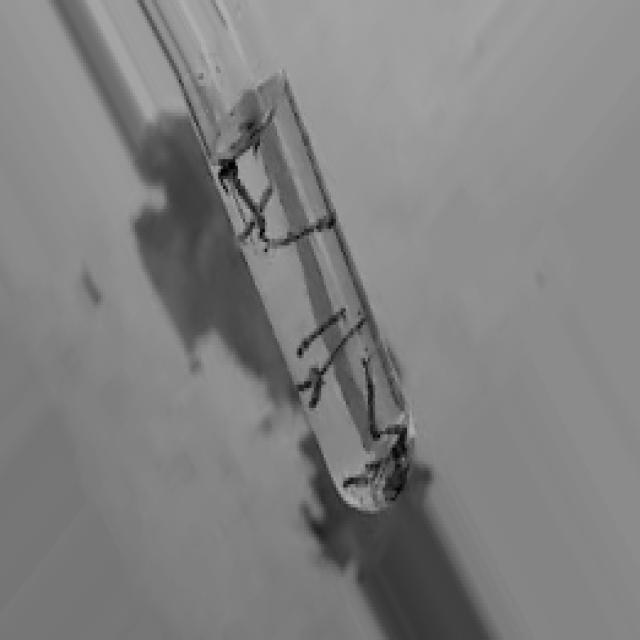larvas: (264, 211, 338, 253), (292, 307, 347, 360), (319, 316, 367, 375), (235, 186, 273, 242), (234, 179, 271, 236), (363, 357, 379, 435), (300, 366, 322, 406), (218, 161, 242, 185), (382, 427, 407, 450), (340, 476, 375, 492)
